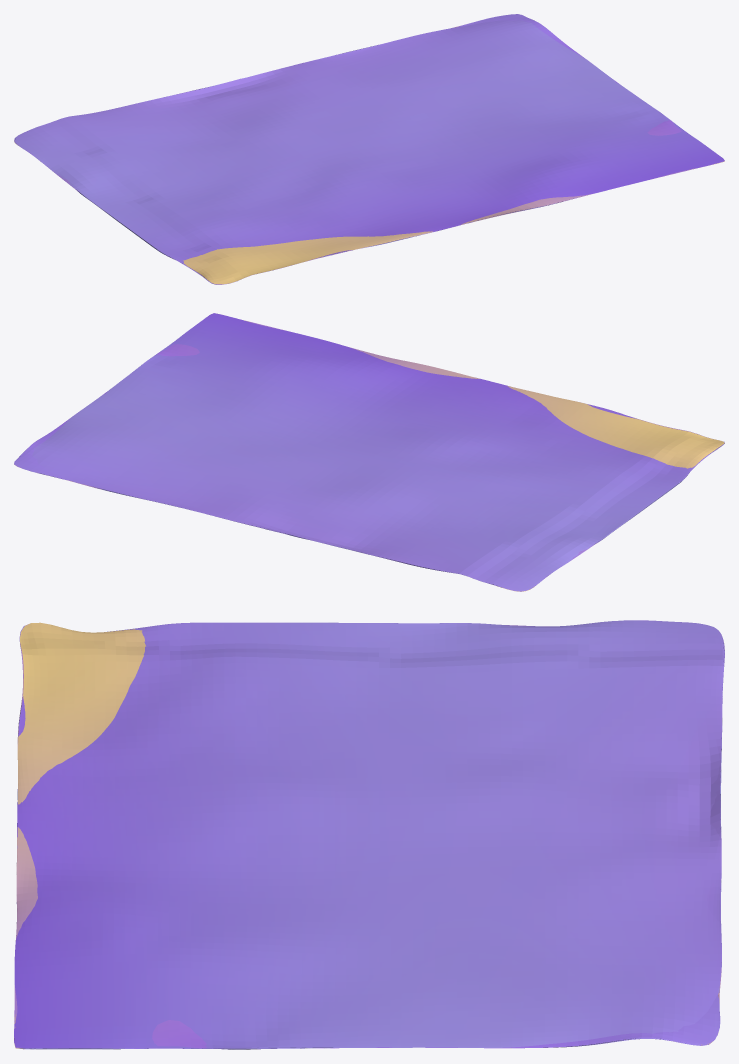
Rendered from carpet.obj.
3 views of the same model, one above another, from view 1: azimuth 30°, elevation 25°; view 2: azimuth 150°, elevation 25°; view 3: azimuth 270°, elevation 25° (orthographic). The views are drawn at different scales.
Parts seen in each view (by area): view 1: Carpet; view 2: Carpet; view 3: Carpet.
Boxes of the visible parts, x1=… form: Carpet: x1=14, y1=14, x2=724, y2=284; Carpet: x1=14, y1=313, x2=724, y2=591; Carpet: x1=14, y1=620, x2=724, y2=1049.
Bounding box in the file's own units: 1.81 × 0.0353 × 1.26.
1 material, 1 textured.
